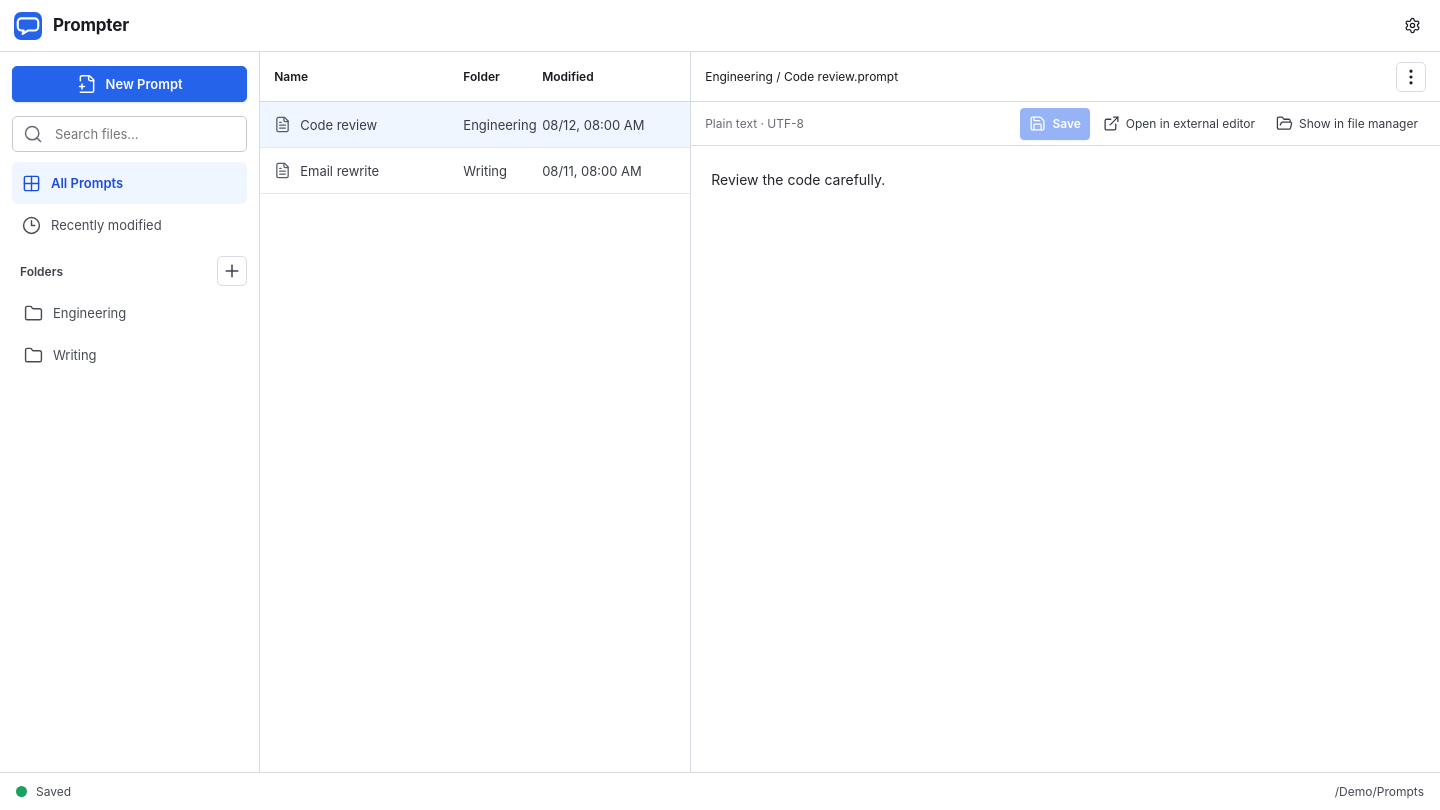
Test case: Manager › shows a precise native mutation error and keeps the rename editable
This screenshot has width=1440, height=810.
Check: the text box showing "Review the code carefully." is shown, box [691,146,1439,772]
Click the button named "Actions" at (1411, 76), box [1396,62,1426,92]
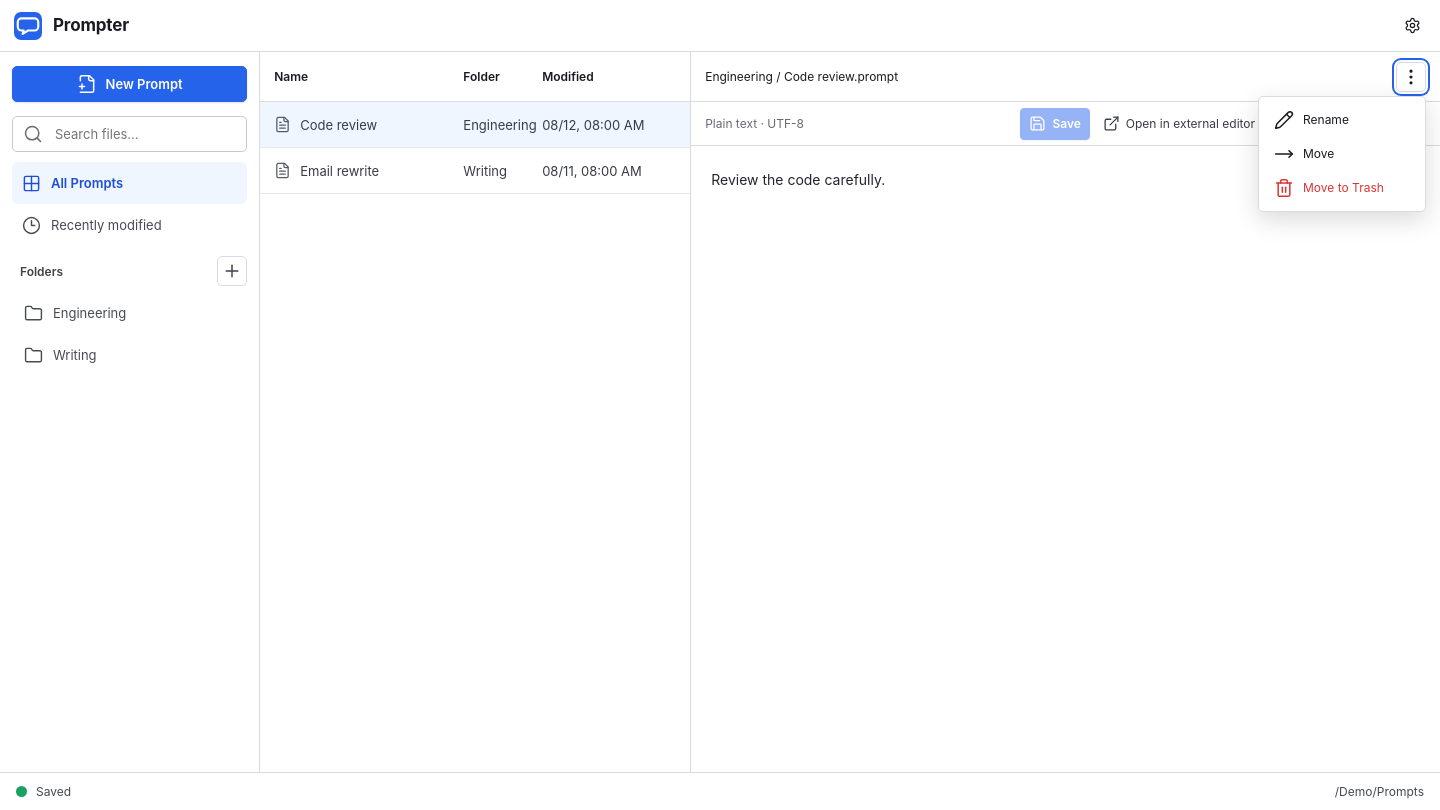
Click the button "Rename" at (1342, 120), box [1265,102,1419,136]
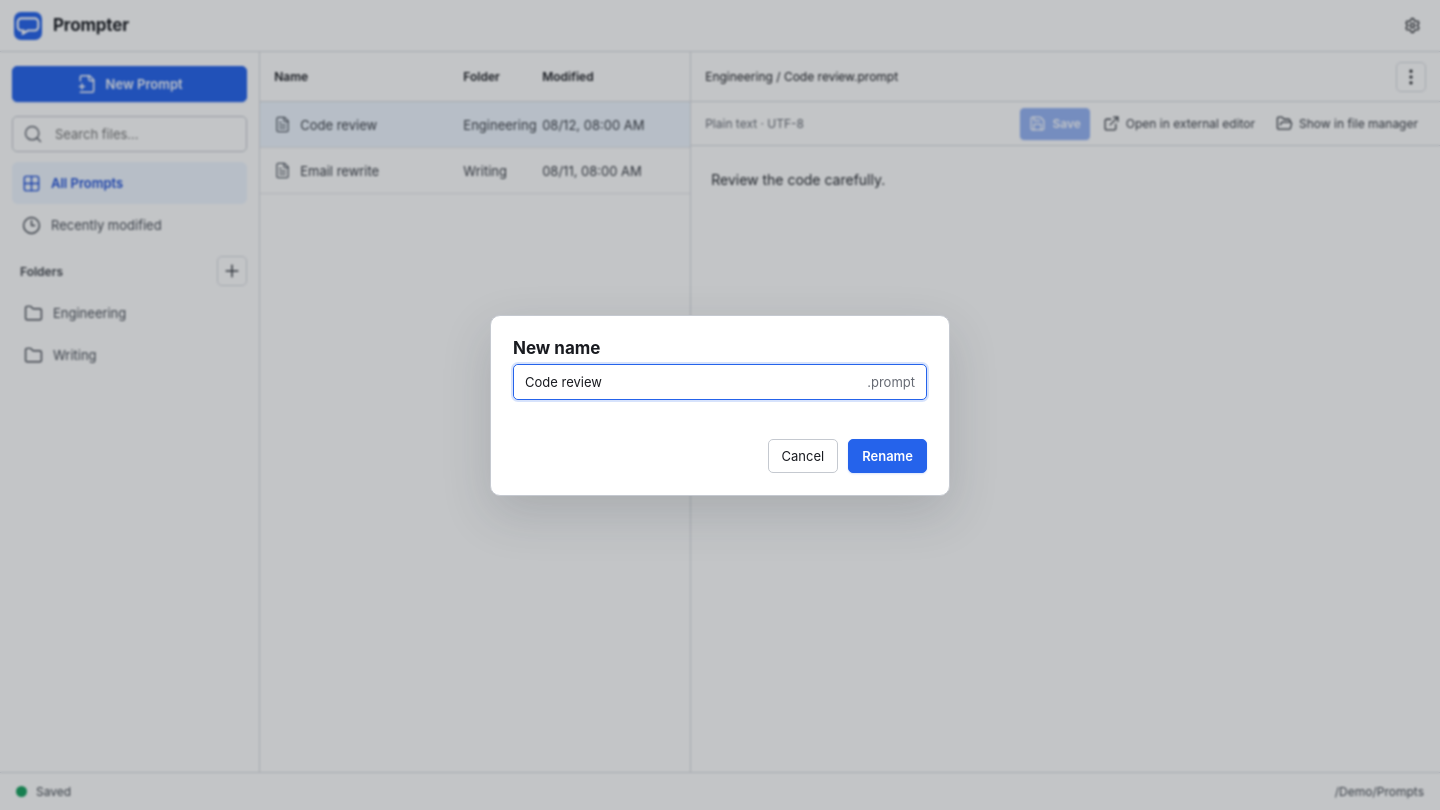
Replace the text in the field named "New name" with "Busy review" at (691, 382), box [514,364,867,398]
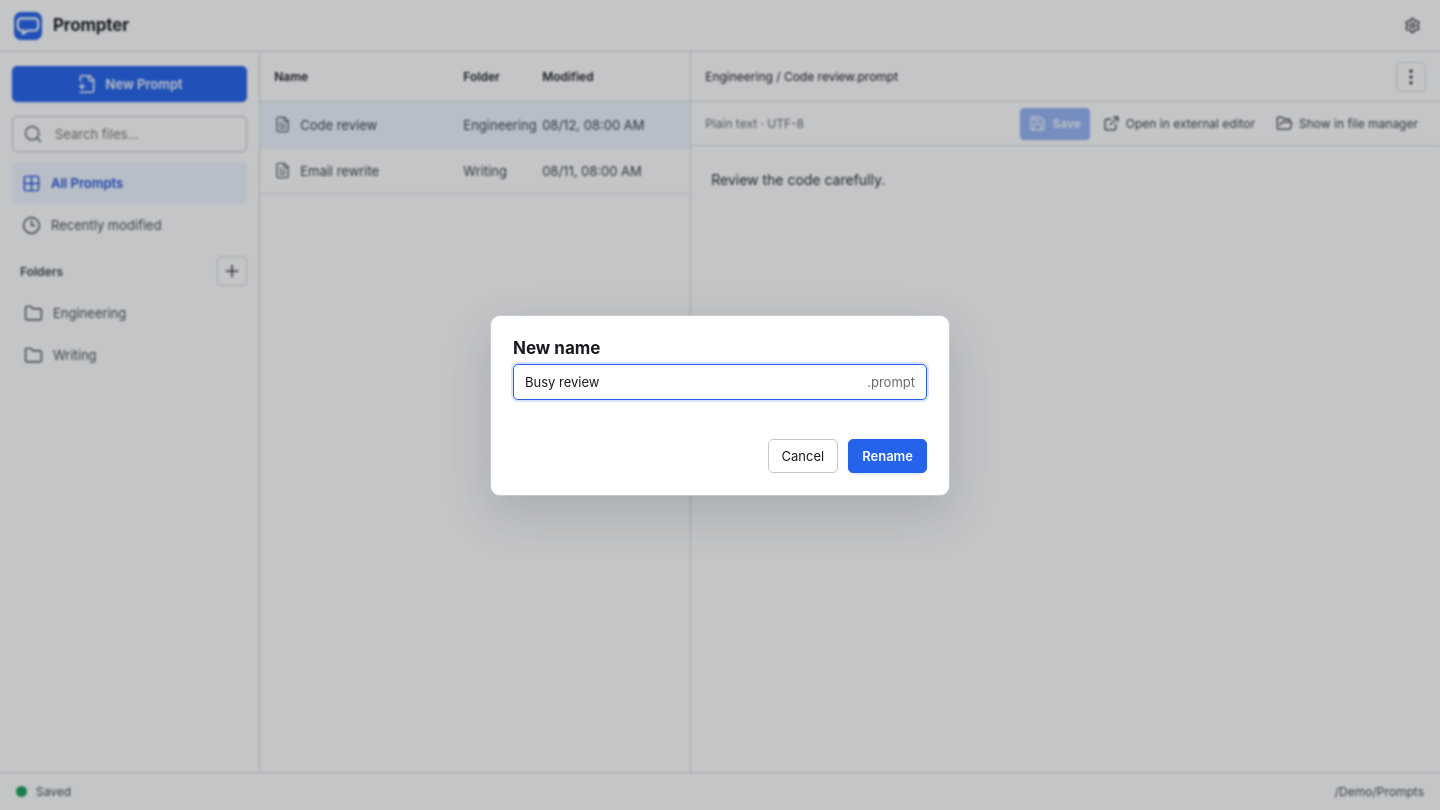
Click the button "Rename" at (888, 456), box [848,438,927,472]
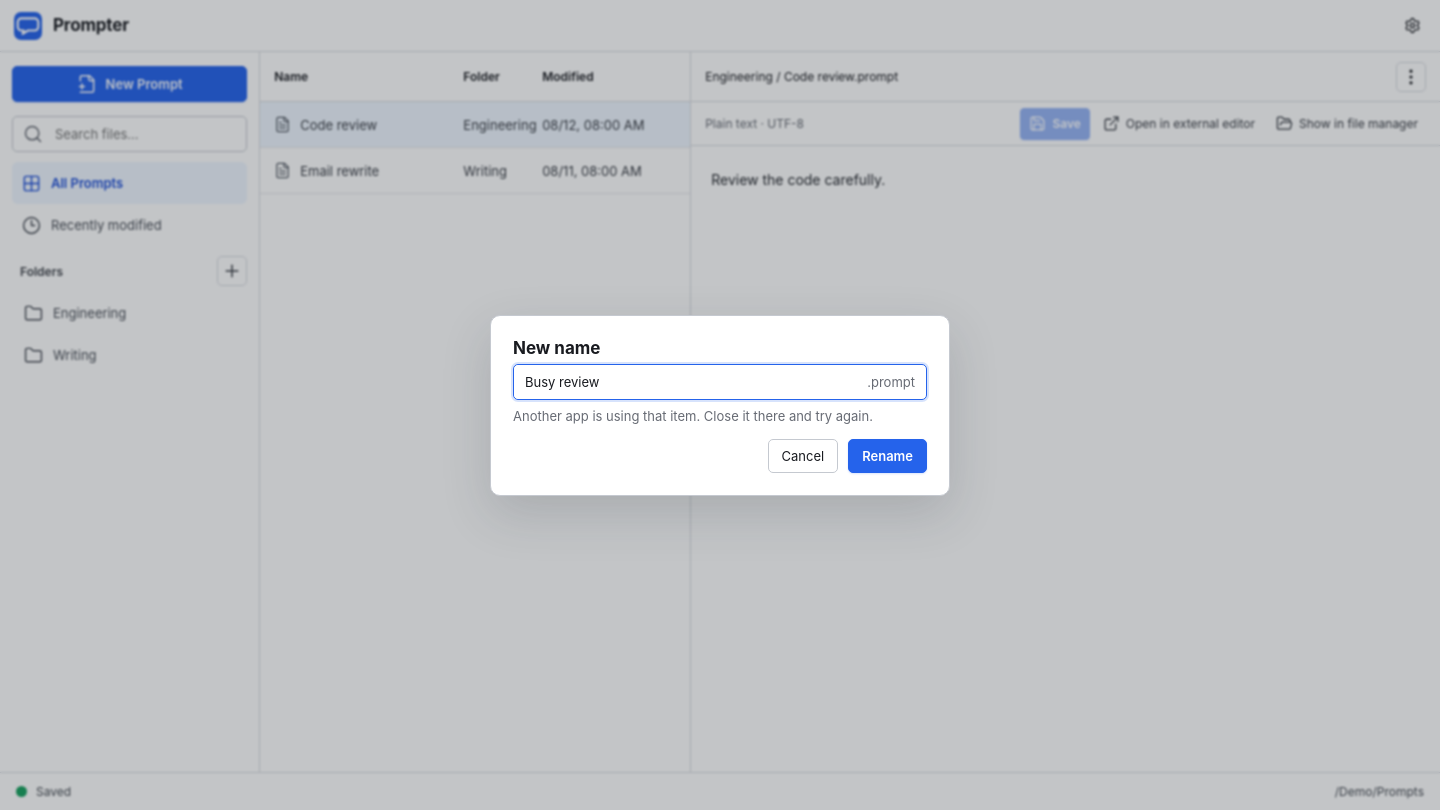
Check: the text "Another app is using that item. Close it there and try again." is shown, box [513,406,927,426]
